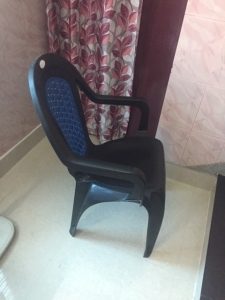chair: (27, 53, 166, 259)
